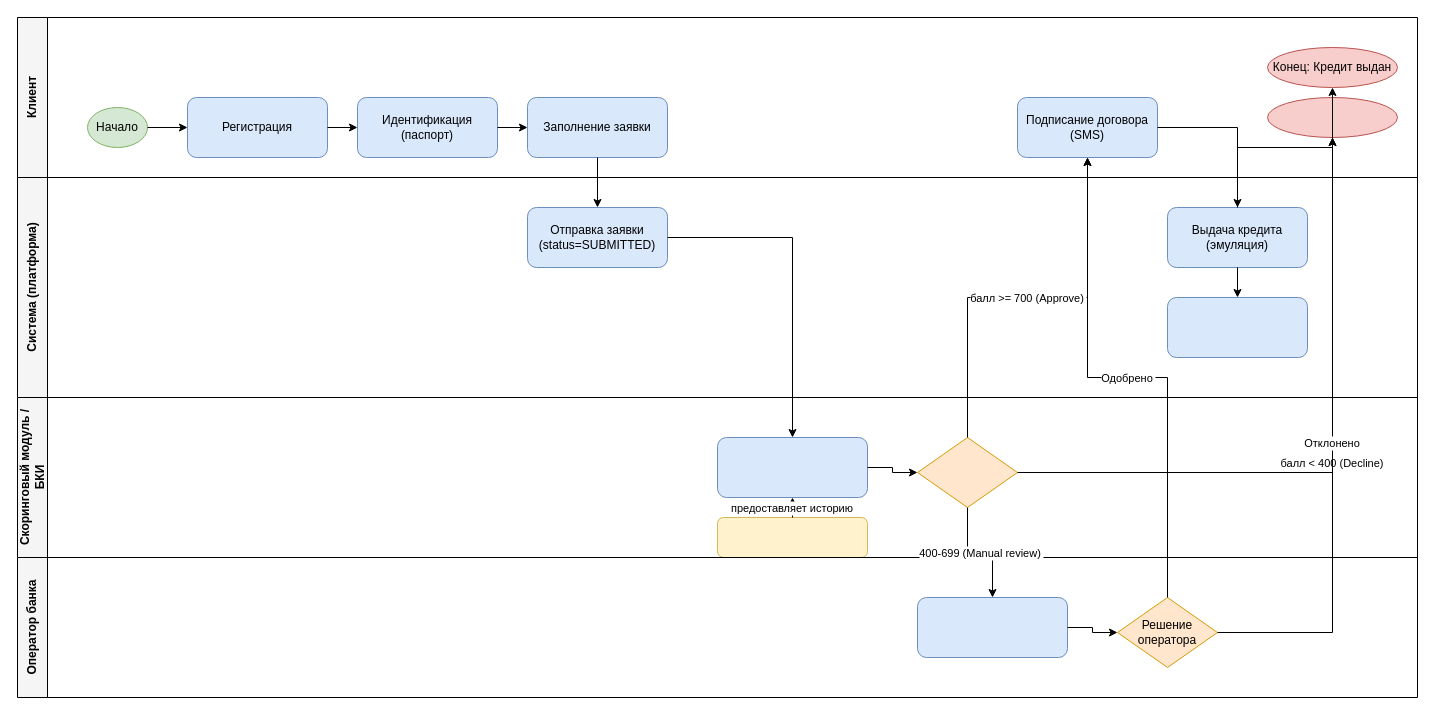
The diagram is 1435 pixels wide and 715 high, and some of its shapes have lost their labels. Here are the shapes that lost their labels. From the top down, the centre of each, then its label:
point 1332,117: Конец: Отказ
point 1237,327: Уведомление клиента
point 792,467: Расчёт скорингового балла
point 967,472: Балл?
point 792,537: Условное БКИ (кредитная история)
point 992,627: Ручная проверка заявки
